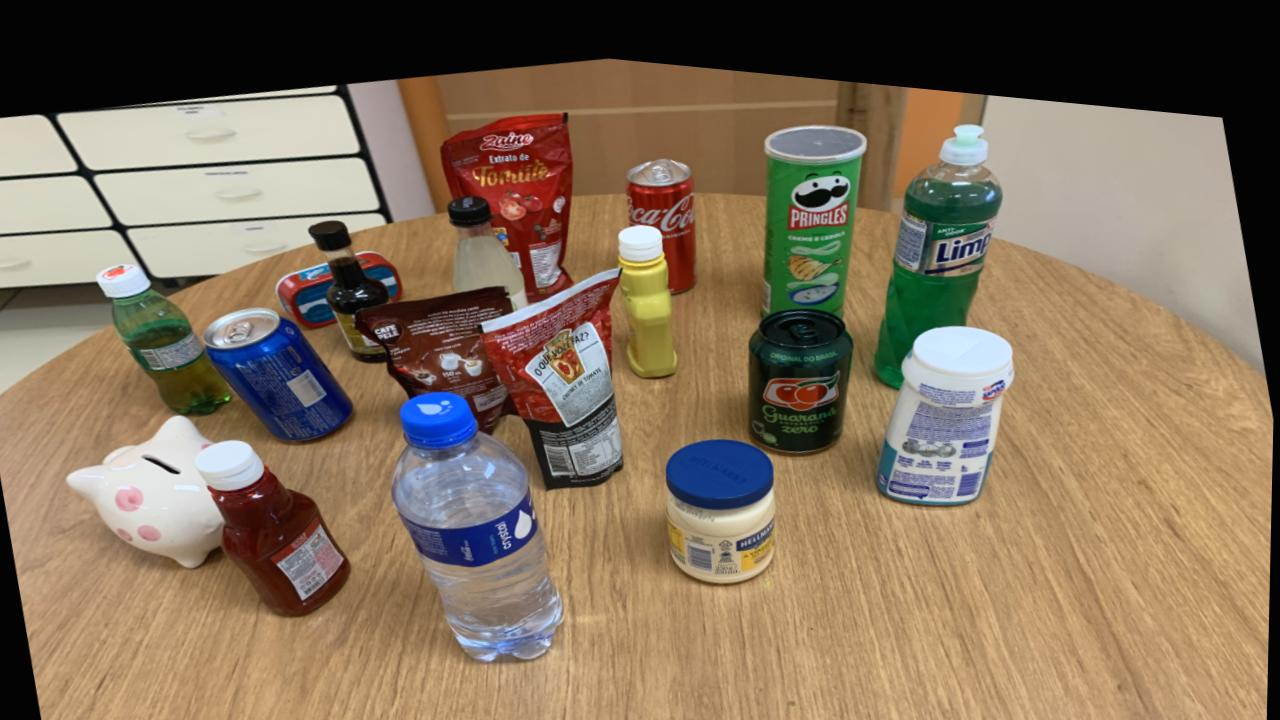Cleaner-Cleanup_Items: (878, 307, 1016, 486)
Coffee-Pantry_Items: (355, 275, 517, 423)
Coke-Drinks: (626, 144, 697, 278)
Detergent-Cleanup_Items: (875, 141, 1003, 368), (942, 104, 986, 136)
English_Sauce-Pantry_Items: (309, 213, 391, 355)
Guarana-Drinks: (97, 261, 233, 410)
Guarana_Can-Drinks: (749, 293, 854, 437)
Ketchup-Pantry_Items: (197, 434, 352, 609)
Mayonnaise-Pantry_Items: (667, 423, 778, 568)
Mustard-Pantry_Items: (618, 211, 679, 364)
Pig_Safe-Miscellaneous: (68, 411, 226, 564)
Pringles-Snacks: (762, 107, 865, 299)
Soda-Drinks: (448, 185, 528, 298)
Tomato_Sauce-Pantry_Items: (482, 256, 626, 477), (441, 101, 574, 291)
Tonic-Drinks: (205, 302, 354, 435)
Tuna_Can-Pantry_Items: (275, 256, 336, 321), (357, 243, 403, 292)
Water_Bottle-Drinks: (392, 381, 565, 651)
